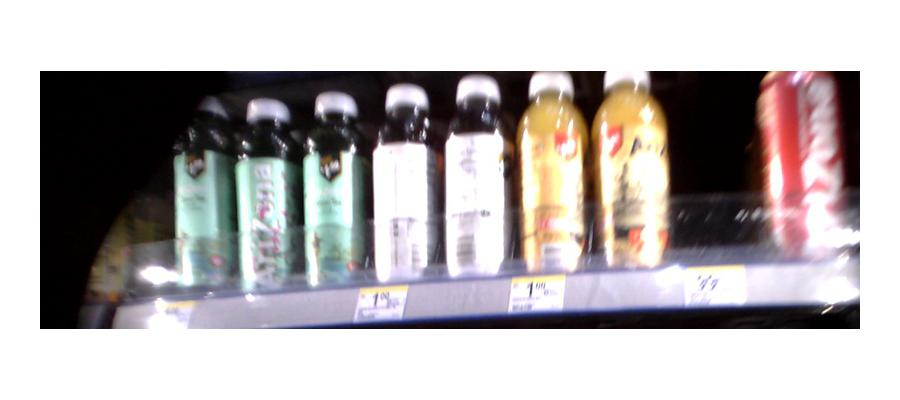bottle: (756, 61, 849, 265), (592, 65, 669, 269), (441, 78, 513, 280), (517, 73, 588, 273), (369, 88, 438, 282), (300, 92, 367, 287), (171, 96, 233, 295), (237, 99, 295, 291)
